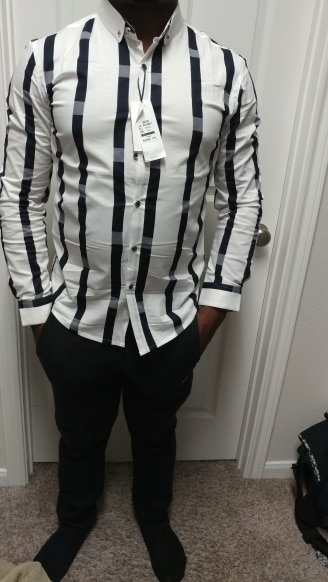shirts: (6, 6, 266, 341)
